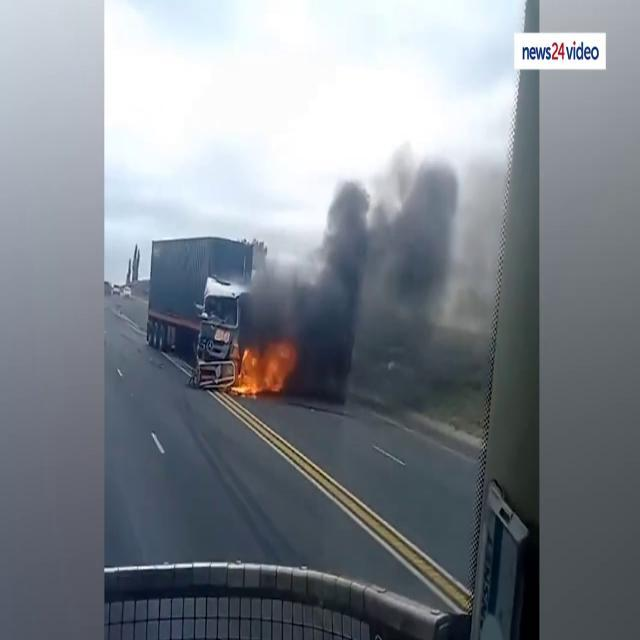Fire: (230, 333, 300, 399)
Smoke: (236, 114, 538, 404)
